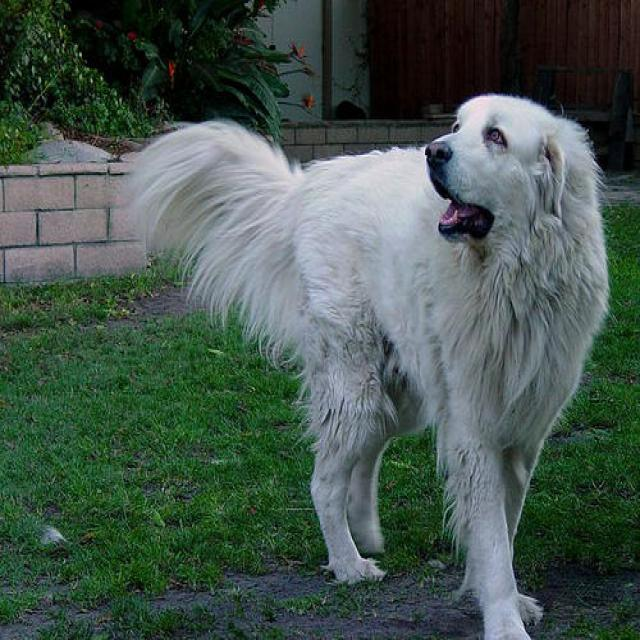dog-great_pyrenees: (138, 77, 613, 637)
